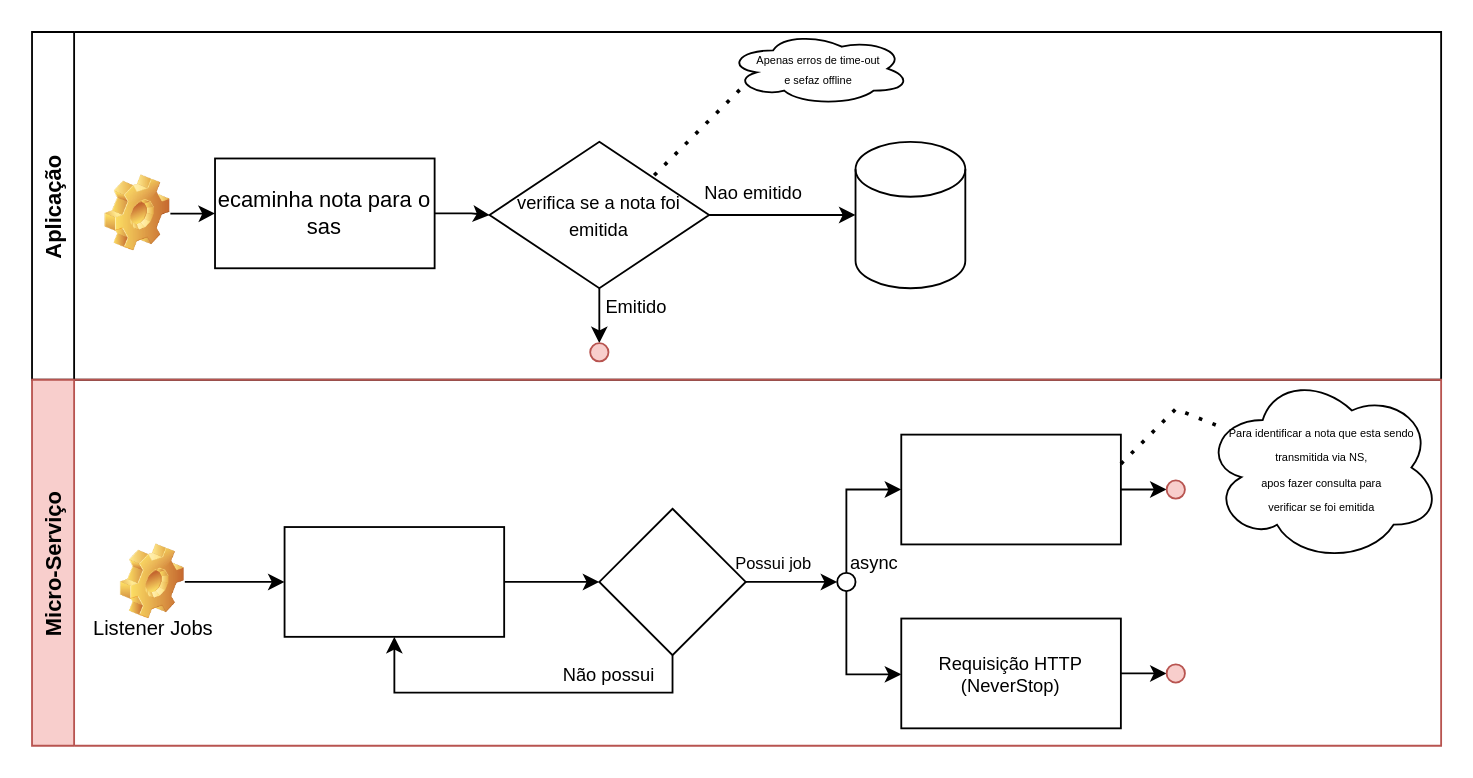
Some shapes in this 1473 by 778 pixel diagram are drawn without their labels. Here are the shapes that lost their labels. From the top down, the centre of each, then its label:
the point at 909,214: Persiste um job no REDIS
the point at 1010,488: Persiste um documento na base mongo
the point at 393,581: Verifica se possui alguma JOB pendente
